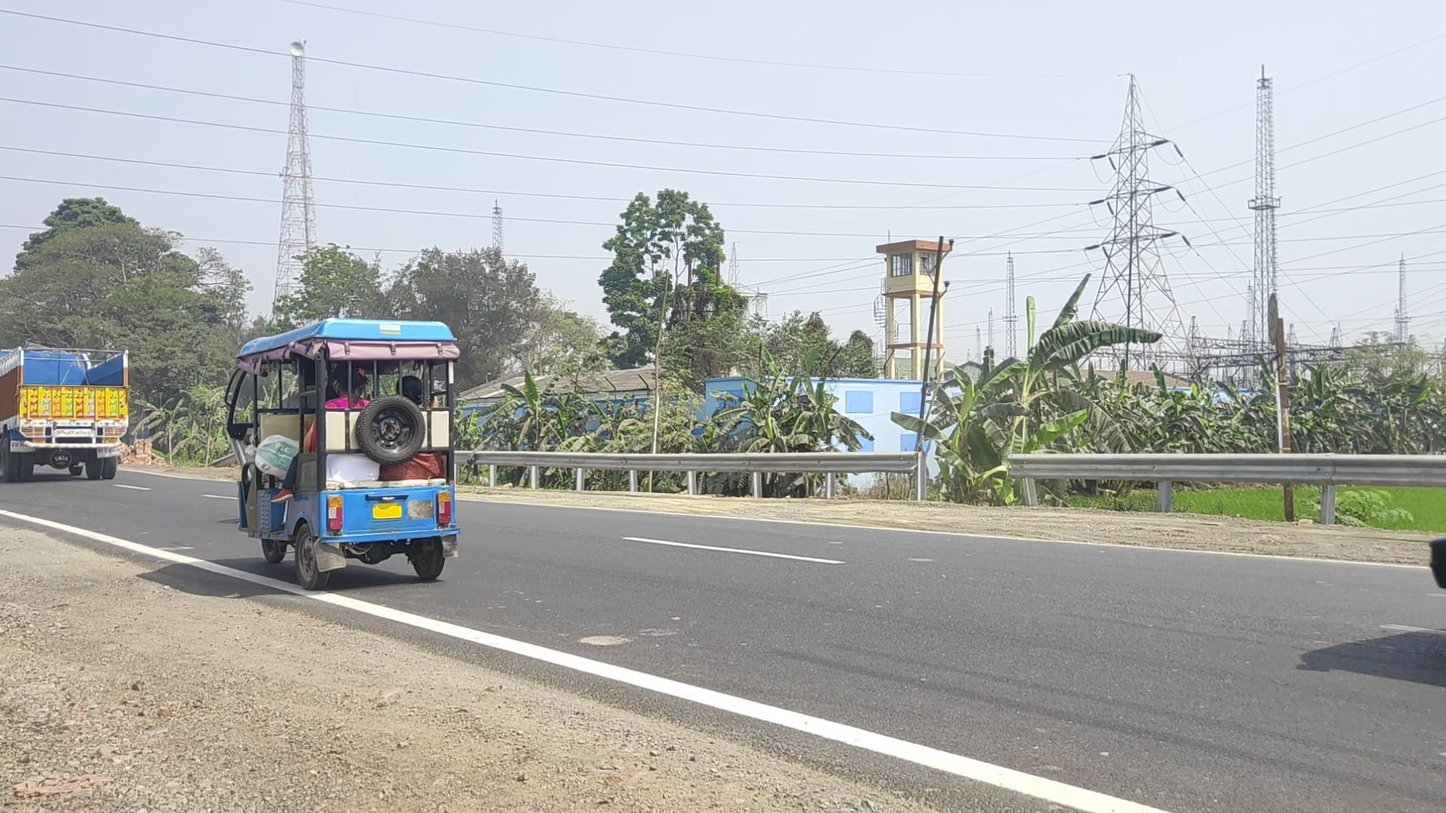Auto: (224, 317, 460, 590)
truck: (1, 346, 130, 485)
